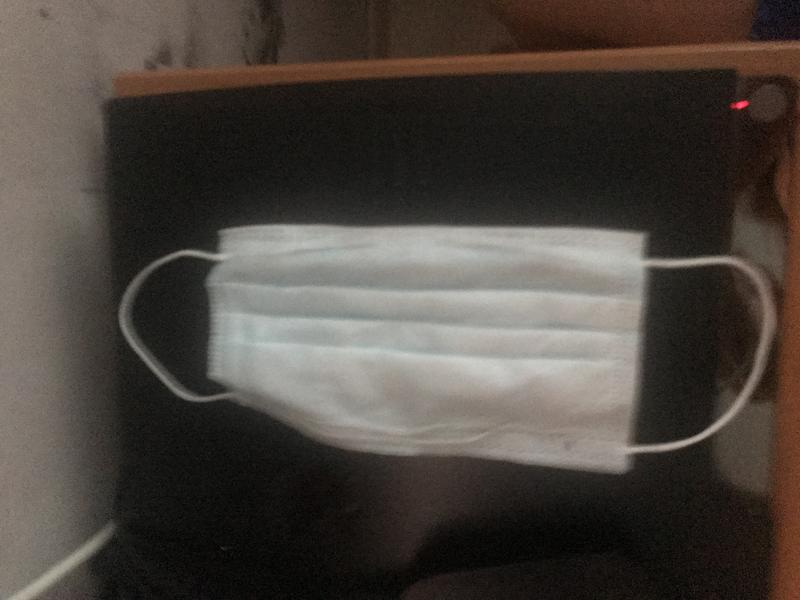medical_mask: (120, 220, 772, 477)
